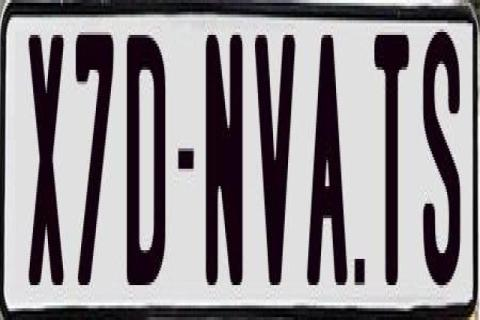0: (73, 26, 113, 282)
A: (306, 29, 346, 285)
D: (125, 29, 168, 279)
N: (205, 35, 242, 294)
S: (422, 23, 466, 276)
T: (374, 32, 408, 291)
V: (252, 29, 296, 297)
X: (27, 35, 62, 299)
